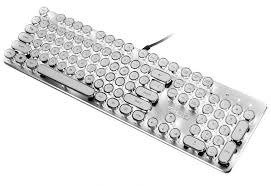keyboard: (8, 5, 268, 172)
